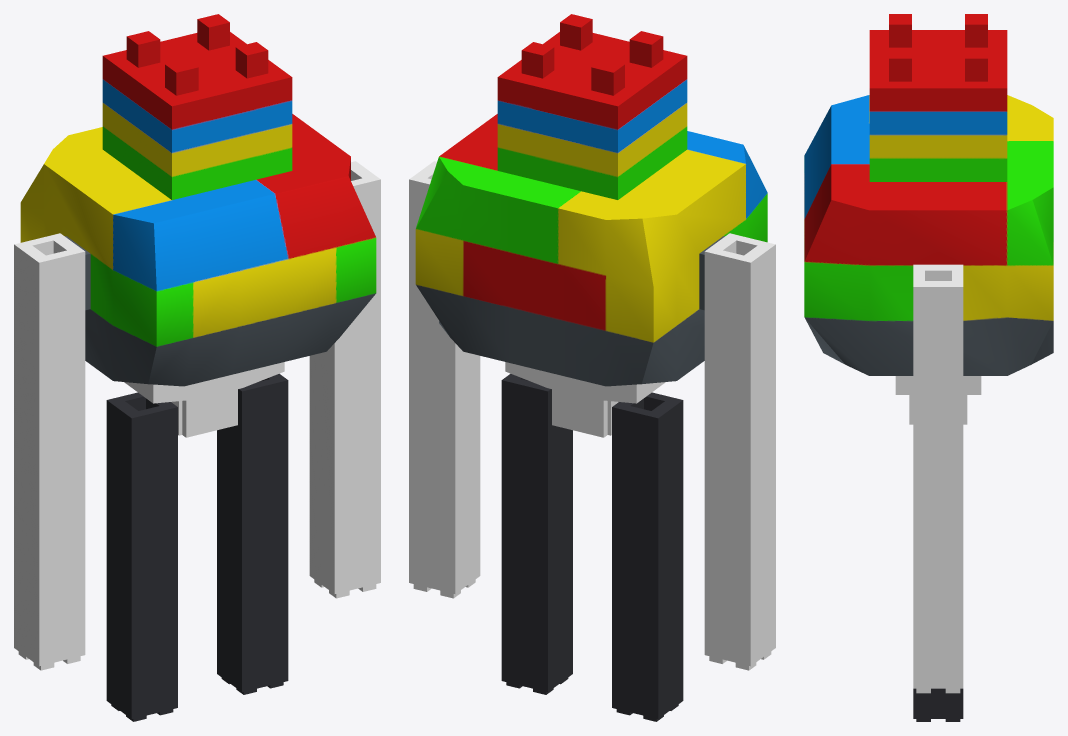
File: Texture_unit_golem.fbx
The picture shows the model from 3 angles, left to right: view 1: azimuth 30°, elevation 25°; view 2: azimuth 150°, elevation 25°; view 3: azimuth 270°, elevation 25°; orthographic projection.
Parts seen in each view (by area): view 1: Box001, Box006, Box009, Box010, Box008; view 2: Box001, Box006, Box009, Box010, Box008; view 3: Box001, Box008, Box010.
Boxes of the visible parts, box(x1,y1,x2,y2) form: Box001: box(20, 14, 376, 437); Box006: box(14, 233, 85, 670); Box009: box(106, 392, 177, 721); Box010: box(217, 373, 288, 694); Box008: box(309, 161, 380, 598); Box001: box(415, 14, 767, 437); Box006: box(704, 233, 775, 670); Box009: box(612, 392, 683, 721); Box010: box(501, 373, 572, 694); Box008: box(409, 161, 480, 598); Box001: box(804, 14, 1053, 424); Box008: box(913, 264, 963, 693); Box010: box(913, 688, 963, 721).
Bounding box in the file's own units: 54.88 × 34.81 × 100.
Materials: 3 (3 with a texture image).
